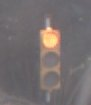Red: (32, 24, 73, 93)
